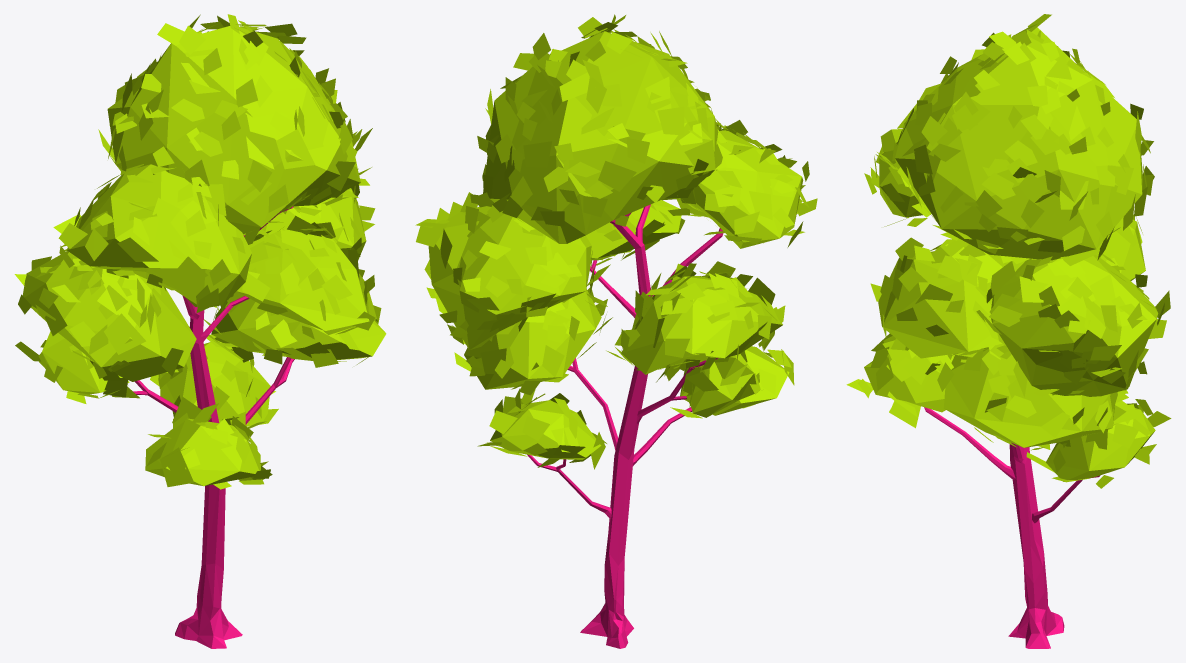
File: SM_Tree_Beech_Mature_B.fbx
The picture shows the model from 3 angles, left to right: view 1: azimuth 30°, elevation 25°; view 2: azimuth 150°, elevation 25°; view 3: azimuth 270°, elevation 25°; orthographic projection. The views are drawn at different scales.
Visible parts, largest first — view 1: SM_Tree_Beech_Mature_B; view 2: SM_Tree_Beech_Mature_B; view 3: SM_Tree_Beech_Mature_B.
Boxes of the visible parts, x1=… form: SM_Tree_Beech_Mature_B: x1=14, y1=14, x2=386, y2=648; SM_Tree_Beech_Mature_B: x1=415, y1=14, x2=817, y2=648; SM_Tree_Beech_Mature_B: x1=846, y1=14, x2=1171, y2=648.
Size of the model in its own units: 7.76 by 13.14 by 6.34.
